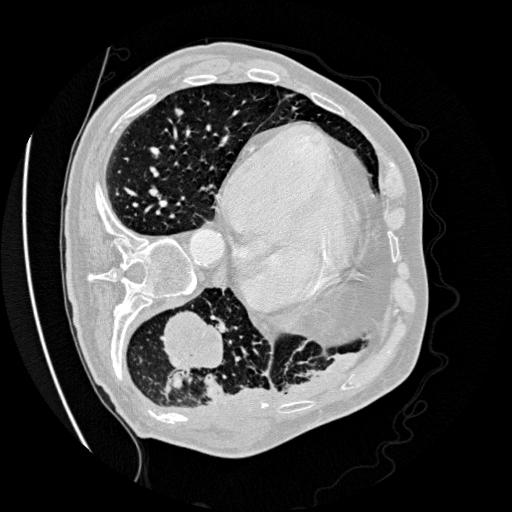nodule: (175, 109, 187, 121)
